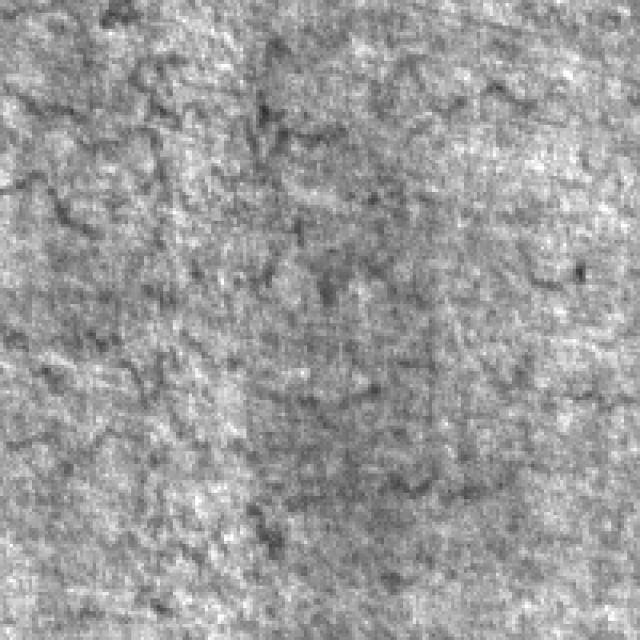crazing: (106, 102, 534, 506), (6, 80, 605, 304), (3, 0, 227, 397)
